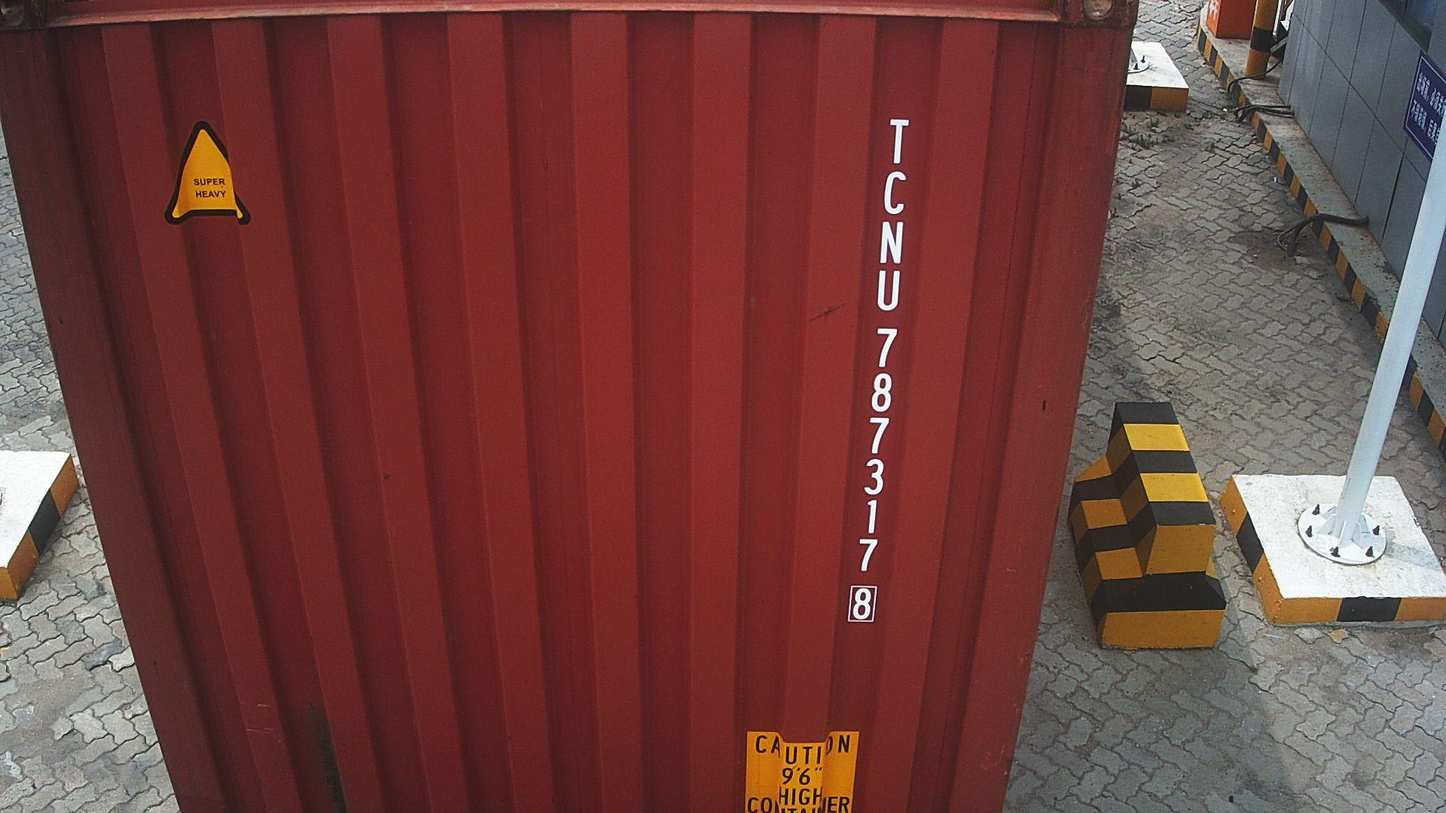container-numbers: (847, 109, 916, 625)
